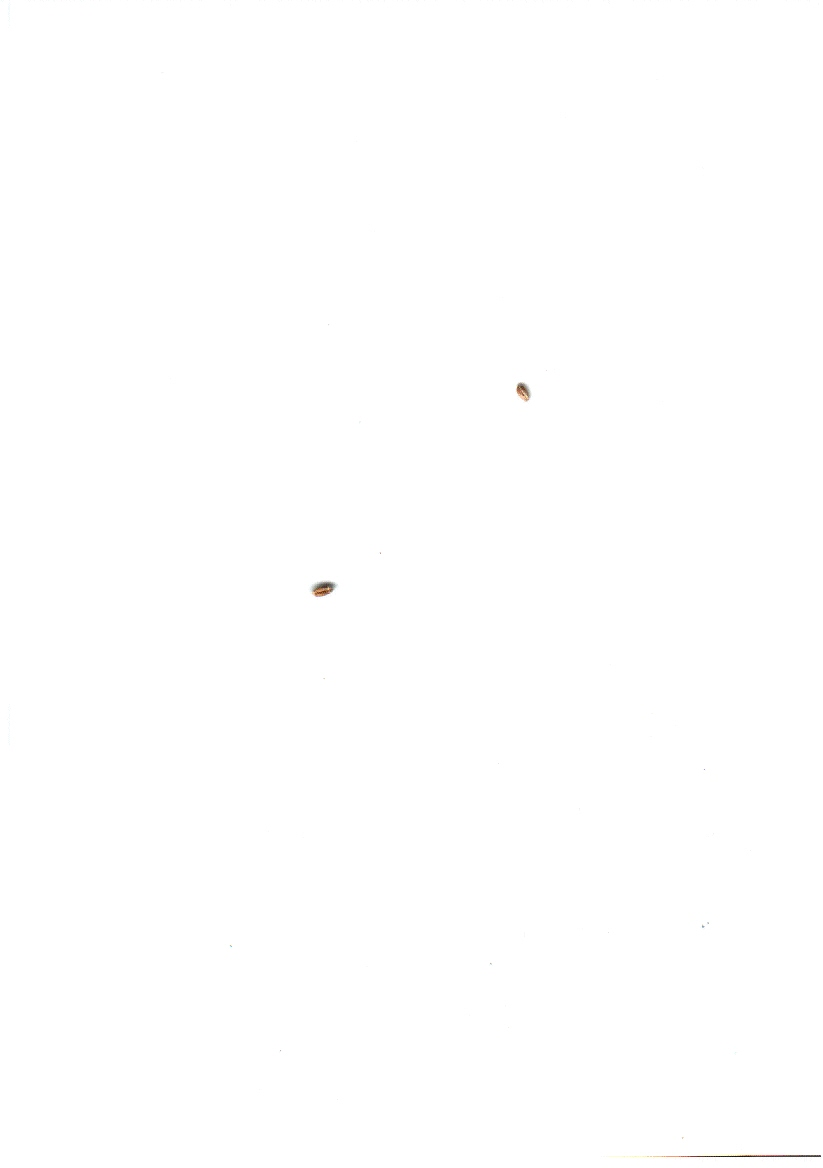grains: (299, 564, 351, 610), (501, 376, 540, 417)
